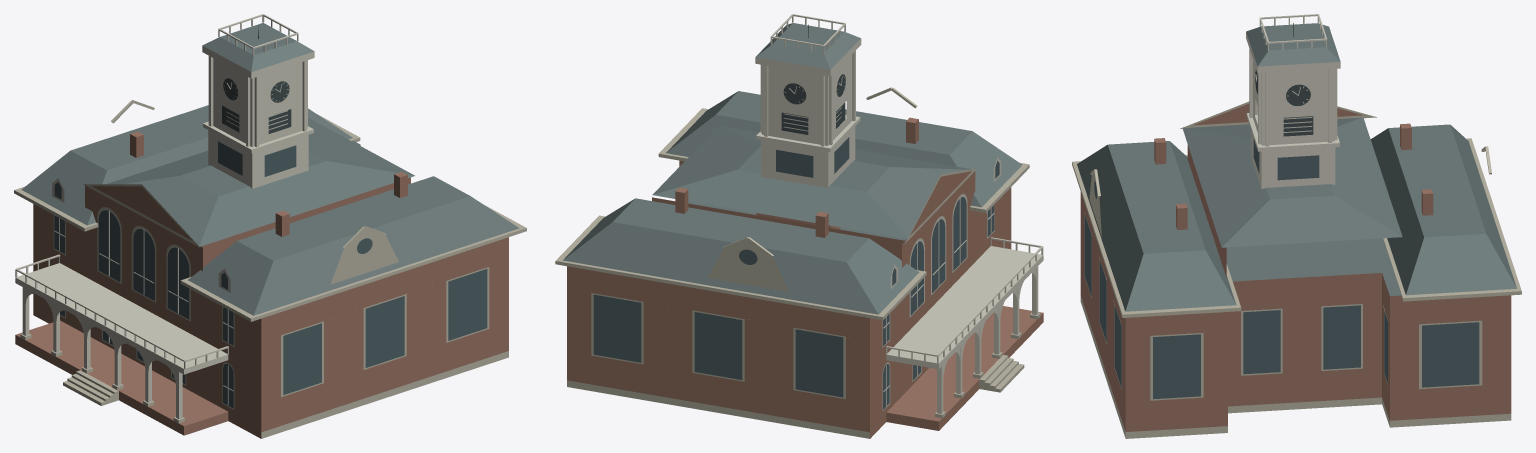
Rendered from walton-historic-courthouse-far.glb.
3 views of the same model, side by side, from view 1: azimuth 30°, elevation 25°; view 2: azimuth 150°, elevation 25°; view 3: azimuth 270°, elevation 25° (orthographic). The views are drawn at different scales.
Visible parts, largest first — view 1: walton-historic-courthouse-0-brick, walton-historic-courthouse-0-roof, walton-historic-courthouse-0-trim, walton-historic-courthouse-0-glass, walton-historic-courthouse-0-stone, walton-historic-courthouse-0-clock; view 2: walton-historic-courthouse-0-roof, walton-historic-courthouse-0-brick, walton-historic-courthouse-0-trim, walton-historic-courthouse-0-glass, walton-historic-courthouse-0-stone, walton-historic-courthouse-0-clock; view 3: walton-historic-courthouse-0-roof, walton-historic-courthouse-0-brick, walton-historic-courthouse-0-glass, walton-historic-courthouse-0-stone, walton-historic-courthouse-0-trim, walton-historic-courthouse-0-clock.
Part boxes in pixels (bbox=[...]): walton-historic-courthouse-0-brick: bbox=[15, 131, 508, 438]; walton-historic-courthouse-0-roof: bbox=[21, 23, 519, 315]; walton-historic-courthouse-0-trim: bbox=[15, 14, 314, 418]; walton-historic-courthouse-0-glass: bbox=[54, 141, 487, 408]; walton-historic-courthouse-0-stone: bbox=[14, 100, 526, 438]; walton-historic-courthouse-0-clock: bbox=[222, 78, 291, 133]; walton-historic-courthouse-0-roof: bbox=[563, 23, 1022, 314]; walton-historic-courthouse-0-brick: bbox=[567, 117, 1043, 438]; walton-historic-courthouse-0-trim: bbox=[755, 14, 1043, 413]; walton-historic-courthouse-0-glass: bbox=[593, 137, 999, 409]; walton-historic-courthouse-0-stone: bbox=[555, 87, 1040, 438]; walton-historic-courthouse-0-clock: bbox=[781, 74, 845, 134]; walton-historic-courthouse-0-roof: bbox=[1077, 23, 1516, 311]; walton-historic-courthouse-0-brick: bbox=[1080, 104, 1511, 431]; walton-historic-courthouse-0-glass: bbox=[1084, 139, 1479, 399]; walton-historic-courthouse-0-stone: bbox=[1072, 101, 1521, 438]; walton-historic-courthouse-0-trim: bbox=[1246, 14, 1340, 189]; walton-historic-courthouse-0-clock: bbox=[1255, 70, 1313, 136].
Bounding box in the file's own units: 35.1 × 27.8 × 34.46.
